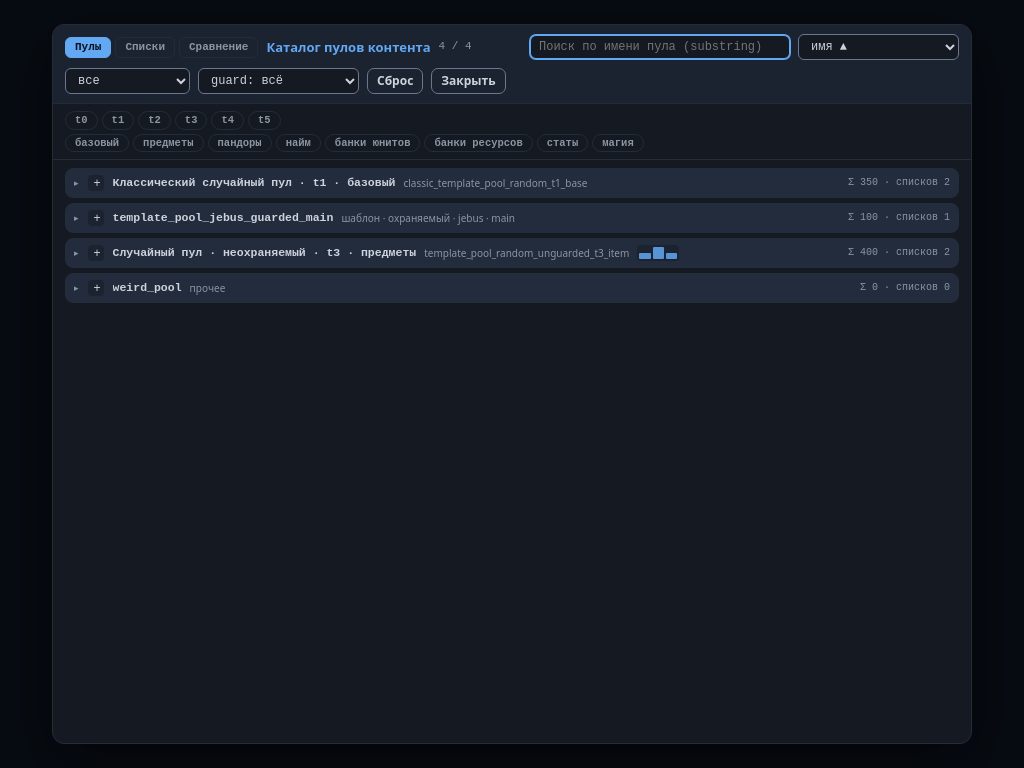
Test case: PoolBrowser › списки с известным именем: русская подпись и сырое имя со счётчиком
The image size is (1024, 768).
Expected: the text "weird_pool" is shown, [112,280,182,296]
Click the button "Списки": (145, 47) [115,36,175,58]
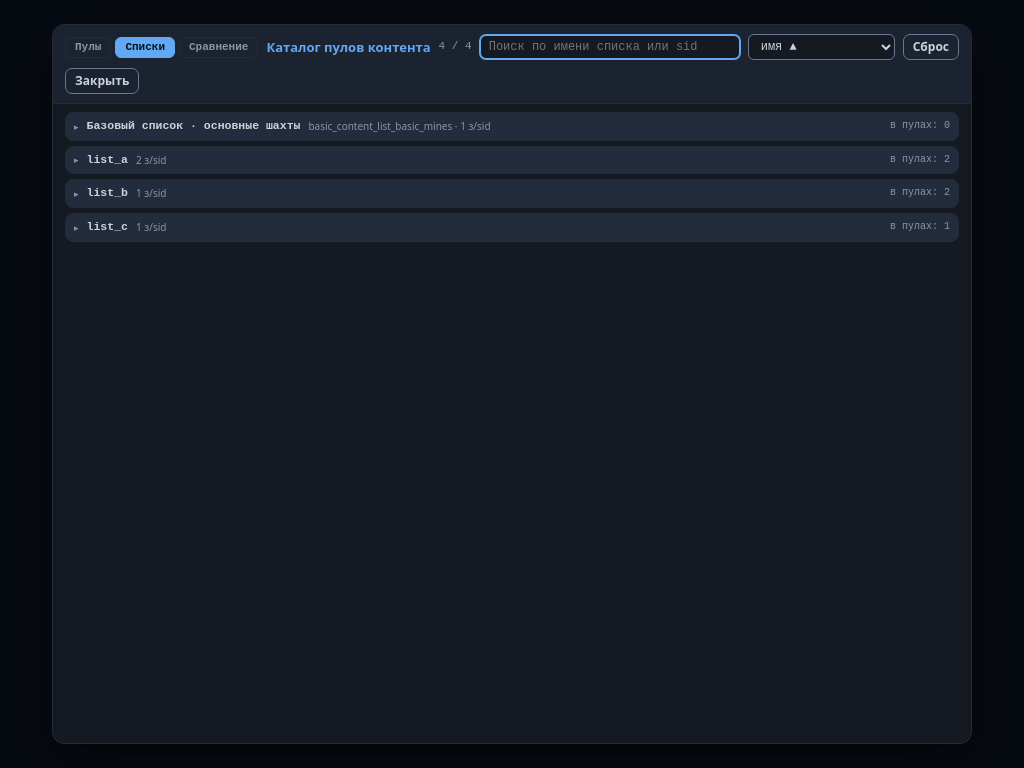
Expected: the text "Базовый список · основные шахты" is shown, [86,118,300,135]
Expected: the text "basic_content_list_basic_mines · 1 з/sid" is shown, [308,119,491,134]
